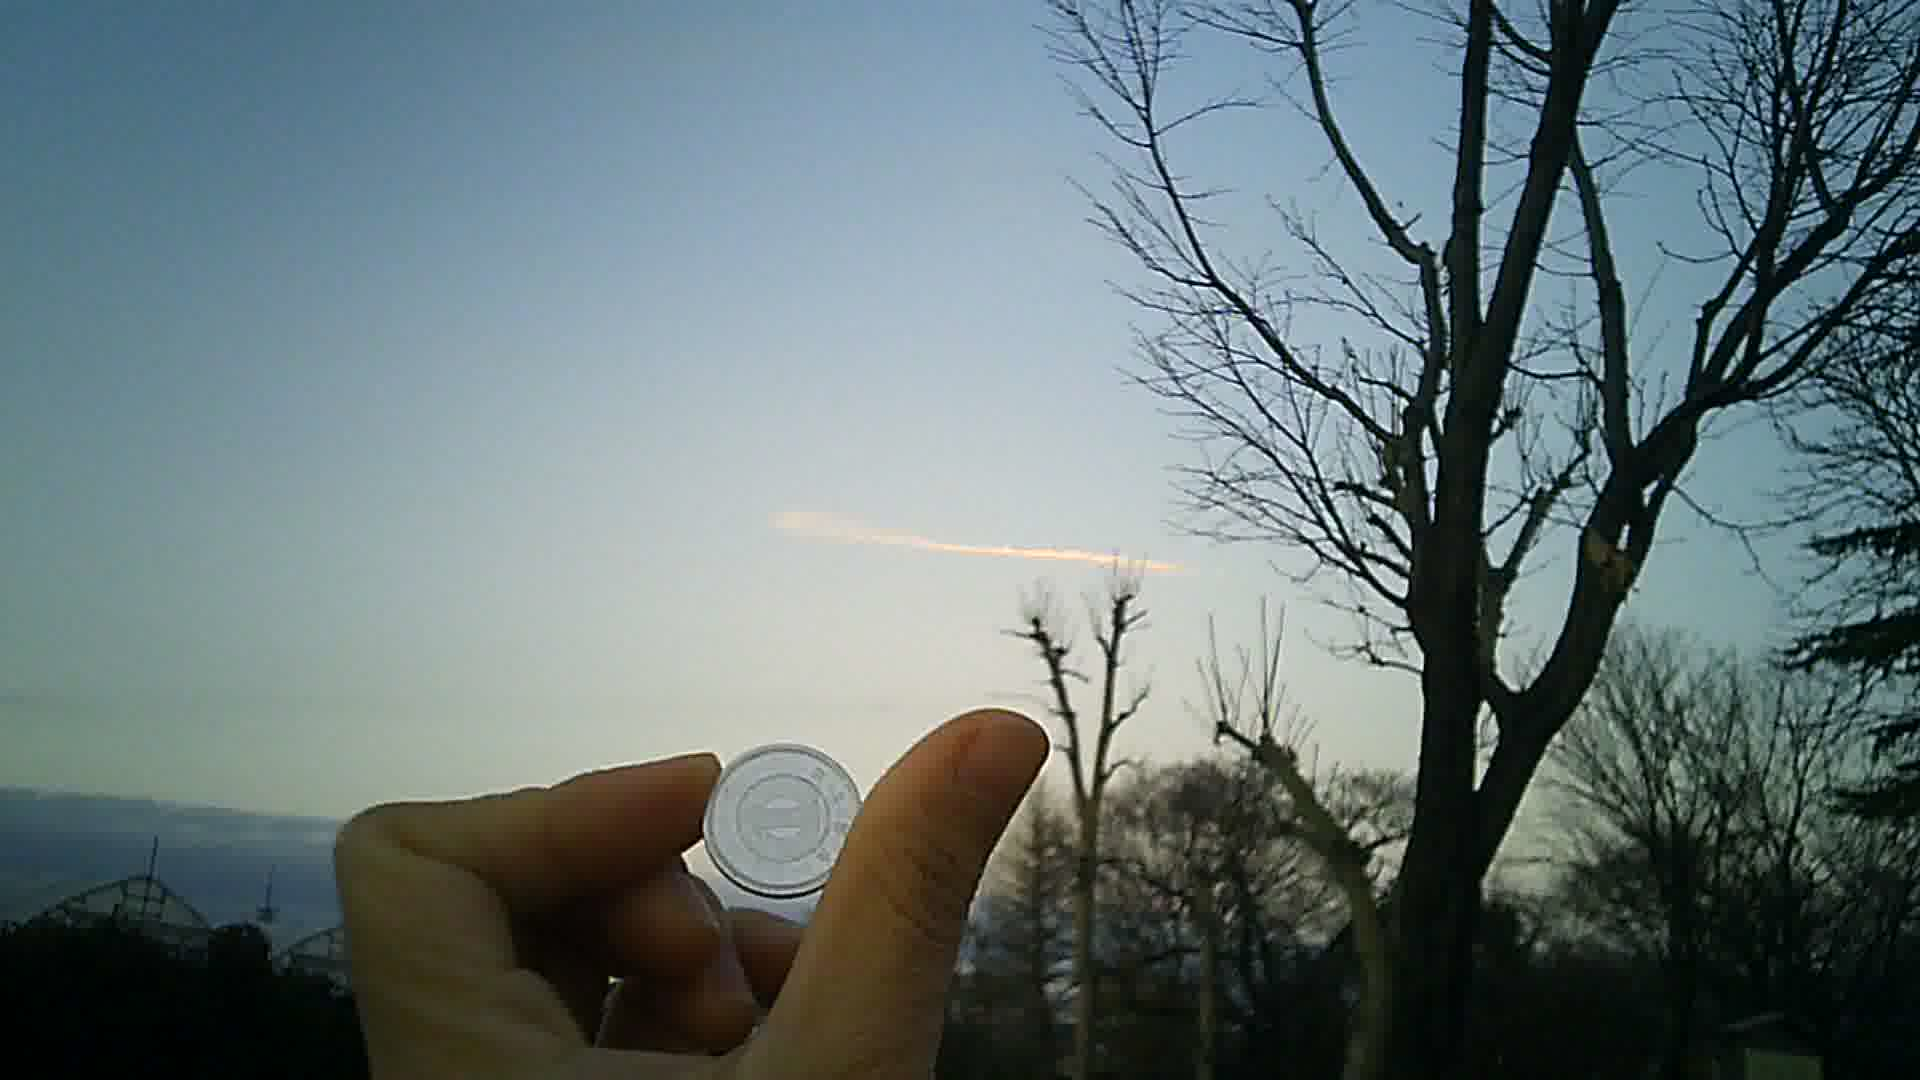1 Yen: (698, 737, 866, 905)
